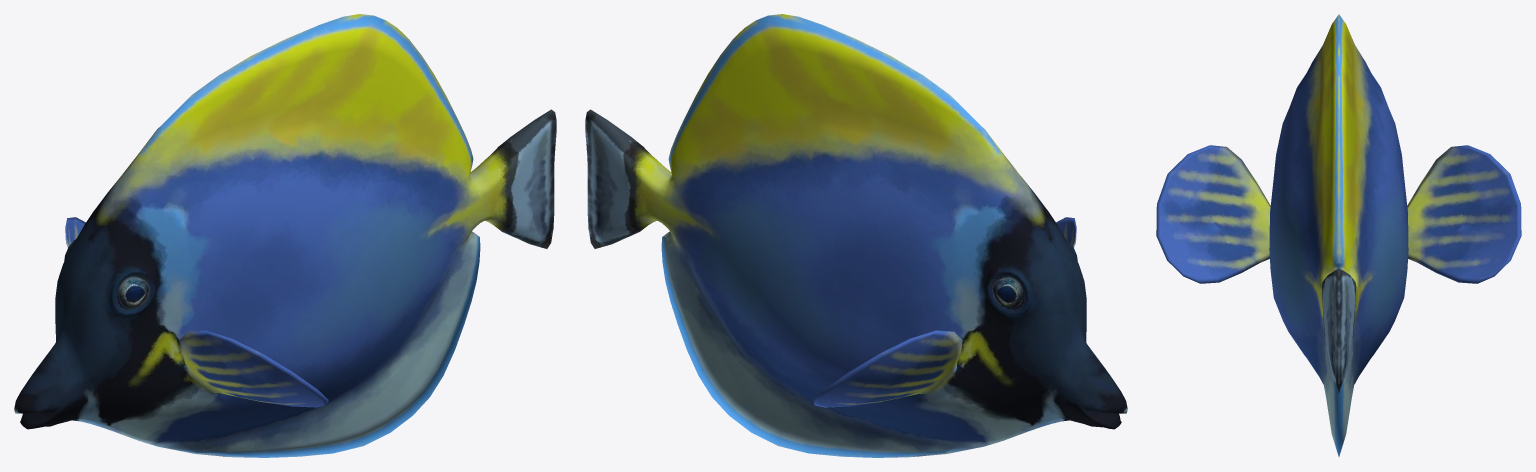
3 renders of one model, left to right at view 1: azimuth 30°, elevation 25°; view 2: azimuth 150°, elevation 25°; view 3: azimuth 270°, elevation 25°, orthographic. The views are drawn at different scales.
Parts seen in each view (by area): view 1: Fish; view 2: Fish; view 3: Fish.
Boxes of the visible parts, x1,y1,x2,y2 form: Fish: (14, 14, 556, 457); Fish: (585, 14, 1127, 457); Fish: (1156, 14, 1521, 456).
Size of the model in its own units: 2215 by 1695 by 1406.
Materials: 1 (1 with a texture image).
